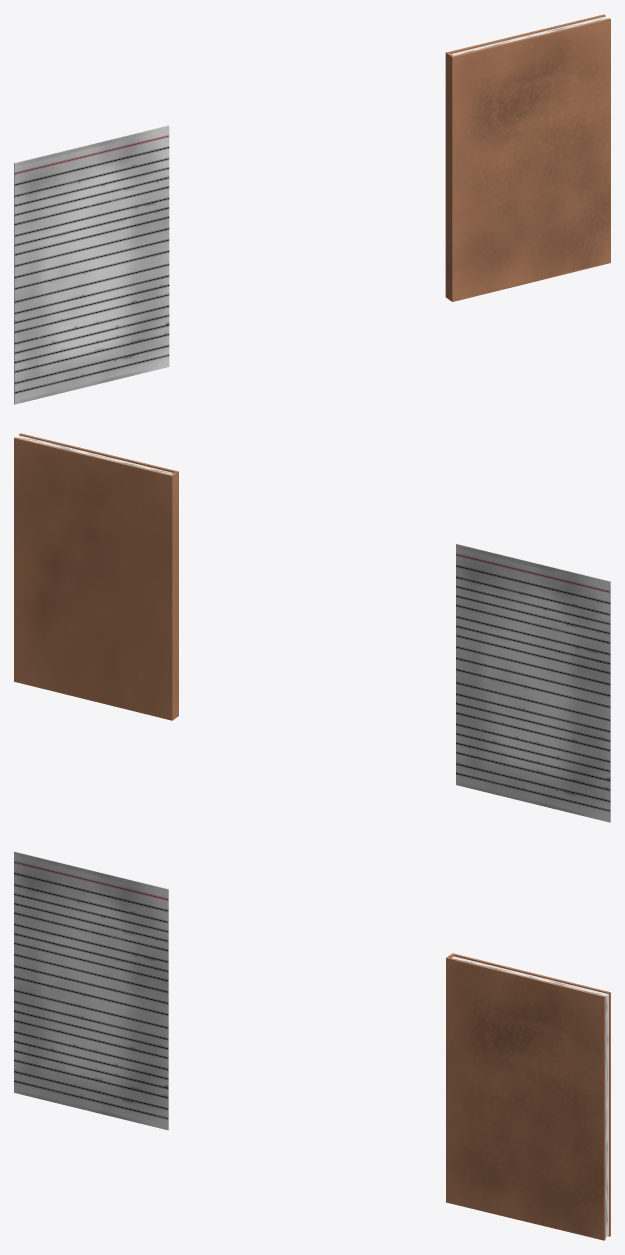
The model's file is Book And Paper.fbx.
3 renders of one model, top to bottom at view 1: azimuth 30°, elevation 25°; view 2: azimuth 150°, elevation 25°; view 3: azimuth 330°, elevation 25°, orthographic.
Visible parts, largest first — view 1: Book, Paper; view 2: Book, Paper; view 3: Book, Paper.
Boxes of the visible parts, x1,y1,x2,y2 form: Book: (445, 14, 610, 301); Paper: (14, 125, 169, 404); Book: (14, 433, 178, 720); Paper: (456, 543, 610, 822); Book: (446, 953, 610, 1240); Paper: (14, 851, 168, 1130).
Size of the model in its own units: 0.6202 by 0.2443 by 0.0121.
